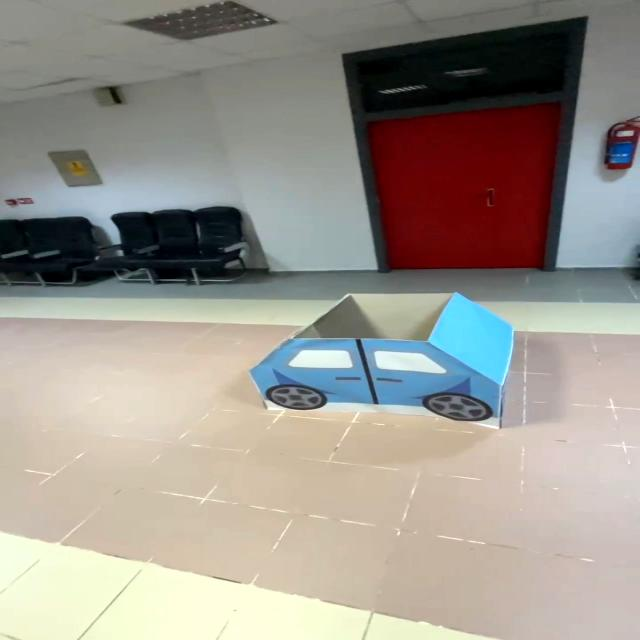blue_car: (213, 287, 546, 441)
